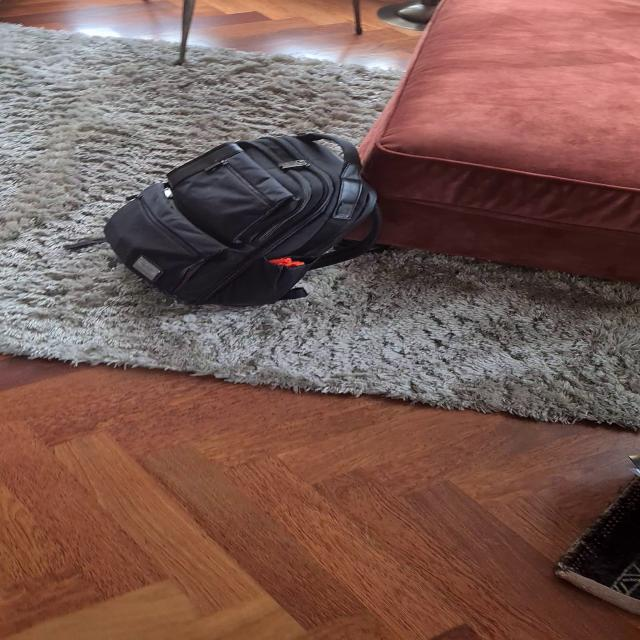backpack: (92, 126, 394, 312)
